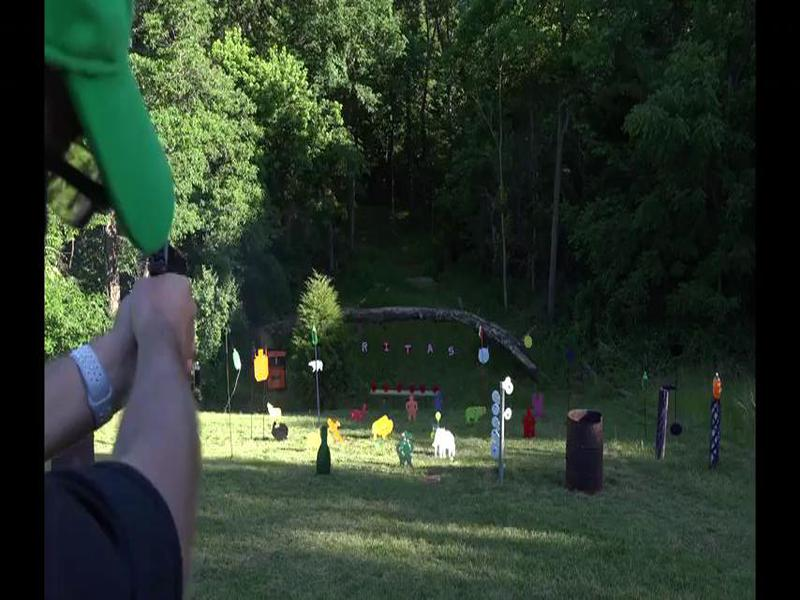Pistola: (143, 231, 203, 301)
